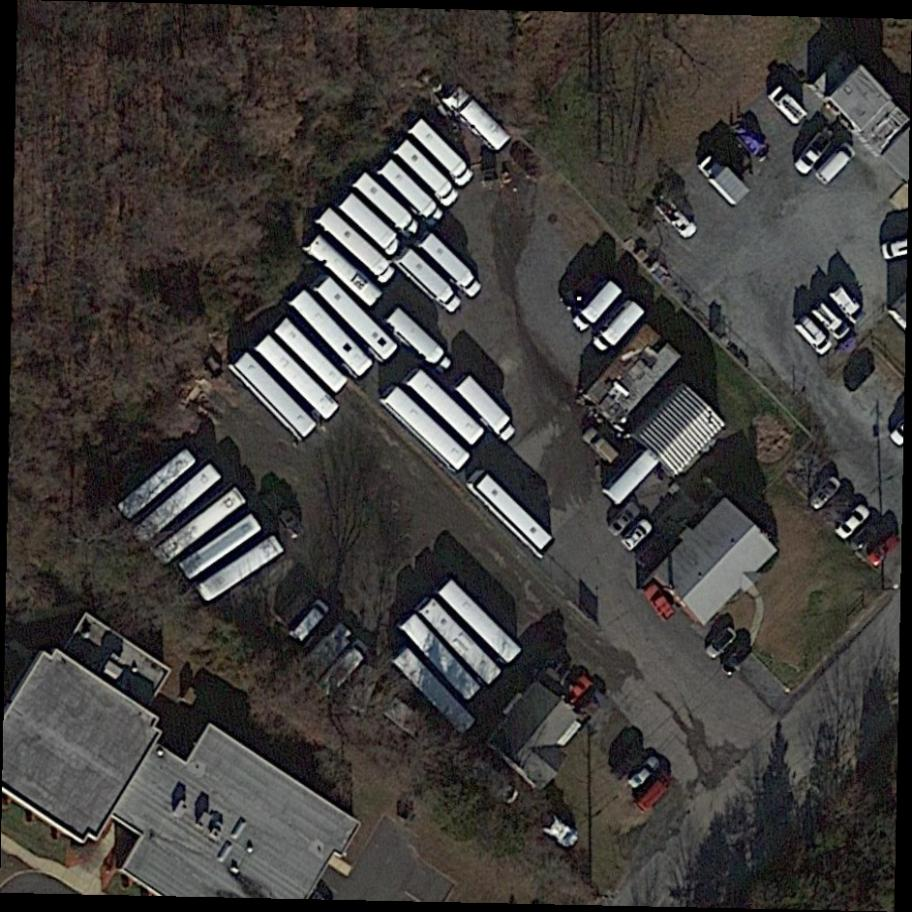large-vehicle: (392, 648, 481, 738), (464, 470, 556, 557), (381, 386, 473, 472), (230, 351, 318, 440), (132, 464, 225, 548), (254, 334, 342, 422), (290, 289, 375, 380), (153, 487, 247, 568), (314, 273, 400, 361), (436, 578, 523, 663), (399, 615, 482, 704), (420, 598, 502, 682), (195, 536, 287, 606), (117, 447, 200, 522), (178, 511, 265, 582), (316, 208, 396, 284), (408, 367, 488, 443), (306, 236, 384, 308), (407, 116, 475, 188), (442, 85, 512, 154), (351, 170, 422, 238), (386, 308, 454, 376), (378, 158, 445, 227), (393, 139, 461, 206), (397, 248, 464, 314), (454, 375, 520, 442), (420, 234, 484, 301), (340, 193, 405, 257), (309, 637, 373, 702), (454, 752, 524, 810), (693, 148, 754, 211), (570, 278, 624, 333), (594, 300, 647, 355), (765, 82, 811, 129)
small-vehicle: (258, 488, 313, 544), (650, 189, 704, 243), (791, 124, 836, 177), (808, 299, 856, 344), (287, 597, 331, 646), (813, 141, 858, 187), (795, 313, 838, 358), (578, 424, 621, 468), (604, 740, 646, 784), (535, 809, 581, 849), (633, 773, 675, 815), (839, 355, 881, 395), (831, 283, 870, 325), (832, 501, 871, 542), (624, 753, 663, 793), (642, 582, 678, 625), (804, 474, 842, 513), (866, 529, 903, 568), (619, 514, 656, 552), (719, 639, 756, 677), (607, 500, 643, 539), (703, 624, 740, 661), (849, 517, 885, 554)
